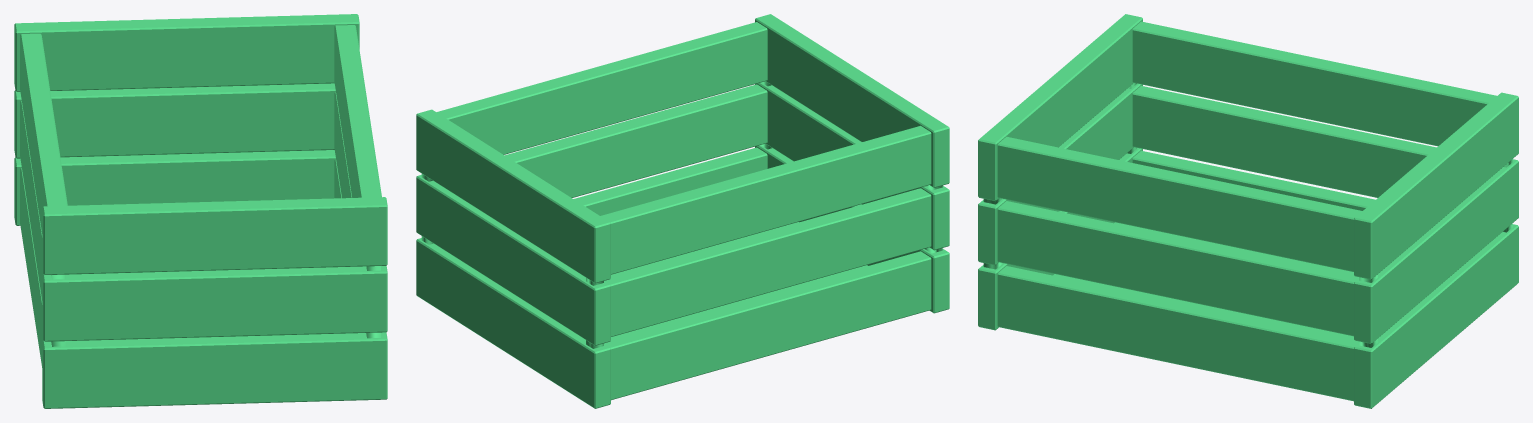
Rendered from ToyObject_120.fbx.
The picture shows the model from 3 angles, left to right: view 1: azimuth 30°, elevation 25°; view 2: azimuth 150°, elevation 25°; view 3: azimuth 270°, elevation 25°; orthographic projection. The views are drawn at different scales.
Visible parts, largest first — view 1: 1.009; view 2: 1.009; view 3: 1.009.
Part boxes in pixels (bbox=[...]): 1.009: bbox=[14, 14, 387, 408]; 1.009: bbox=[416, 14, 949, 408]; 1.009: bbox=[978, 14, 1518, 408].
Bounding box in the file's own units: 0.1553 × 0.0654 × 0.1705.
